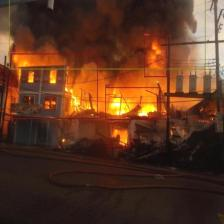fire: (10, 53, 98, 119), (105, 87, 161, 120), (144, 35, 166, 77), (109, 122, 130, 147)
smoke: (9, 0, 205, 69)
